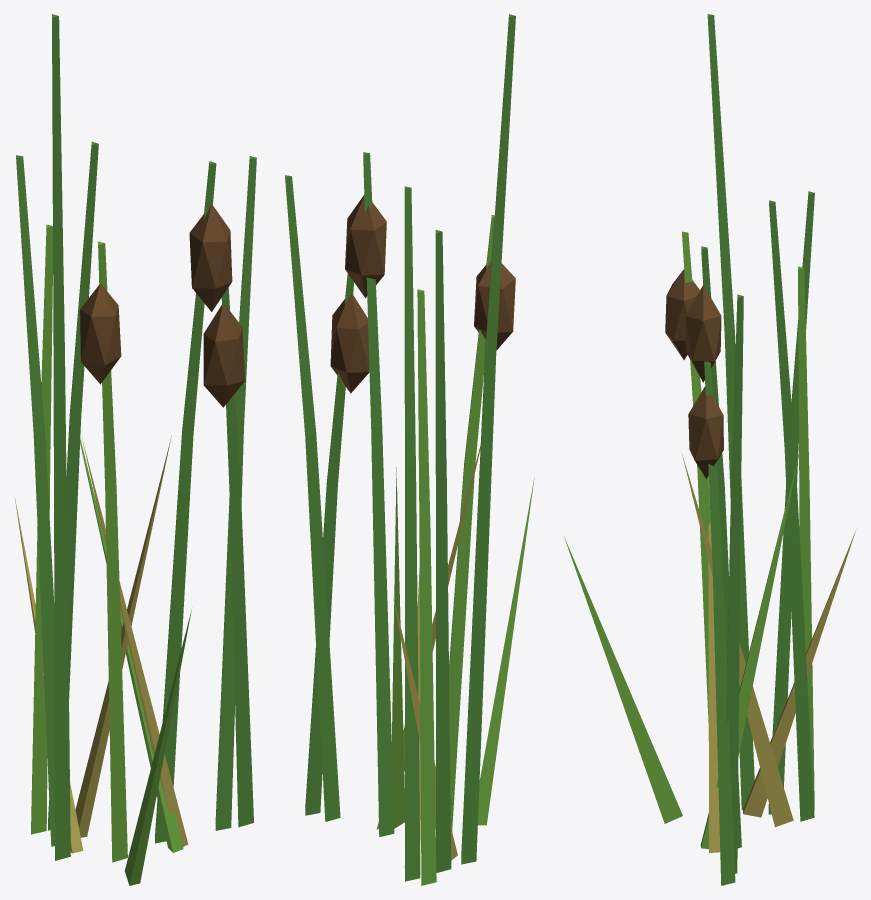
The model's file is HS_LP_Water_Reeds_01.fbx.
3 renders of one model, left to right at view 1: azimuth 30°, elevation 25°; view 2: azimuth 150°, elevation 25°; view 3: azimuth 270°, elevation 25°, orthographic. The views are drawn at different scales.
Visible parts, largest first — view 1: HS_LP_Water_Reeds_01; view 2: HS_LP_Water_Reeds_01; view 3: HS_LP_Water_Reeds_01.
Boxes of the visible parts, x1=… form: HS_LP_Water_Reeds_01: x1=14, y1=14, x2=256, y2=885; HS_LP_Water_Reeds_01: x1=285, y1=14, x2=534, y2=885; HS_LP_Water_Reeds_01: x1=564, y1=14, x2=855, y2=885.
Bounding box in the file's own units: 53.66 × 201 × 68.15.
